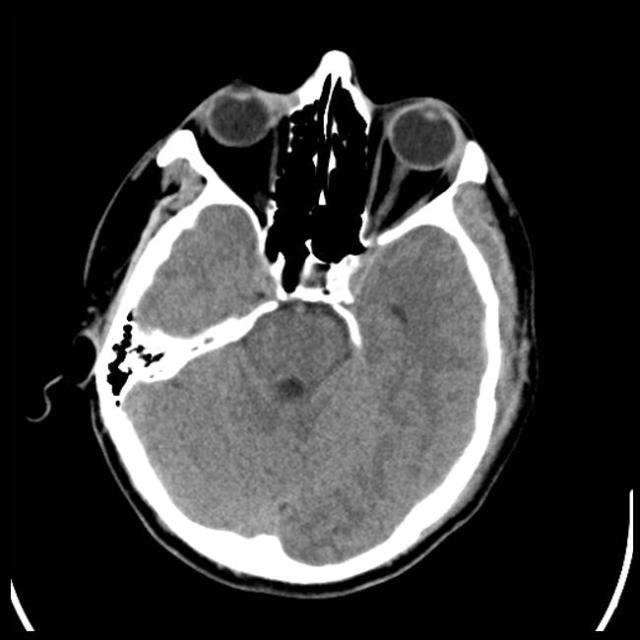lesion: (62, 49, 541, 595)
